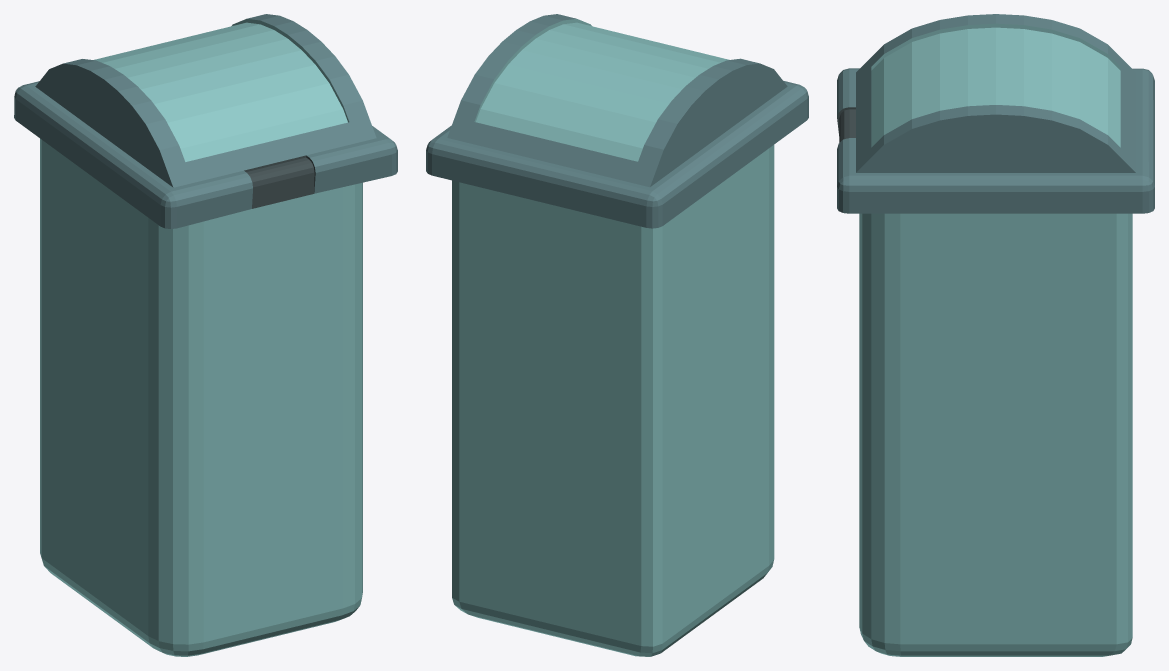
The model's file is Prop_TrashCan_04.fbx.
The picture shows the model from 3 angles, left to right: view 1: azimuth 30°, elevation 25°; view 2: azimuth 150°, elevation 25°; view 3: azimuth 270°, elevation 25°; orthographic projection.
Visible parts, largest first — view 1: Prop_TrashCan_04; view 2: Prop_TrashCan_04; view 3: Prop_TrashCan_04.
Boxes of the visible parts, x1=… form: Prop_TrashCan_04: x1=14, y1=14, x2=397, y2=656; Prop_TrashCan_04: x1=426, y1=14, x2=808, y2=656; Prop_TrashCan_04: x1=837, y1=14, x2=1154, y2=656.
Size of the model in its own units: 32.15 by 70.48 by 37.04.
